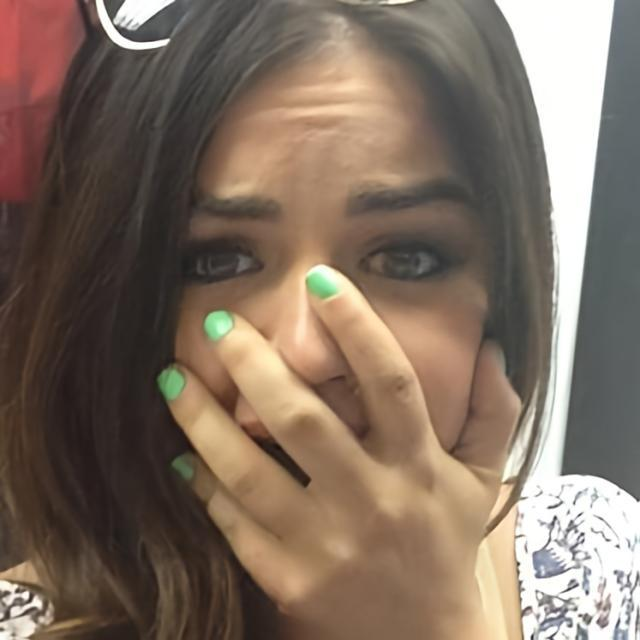fear: (163, 53, 492, 554)
